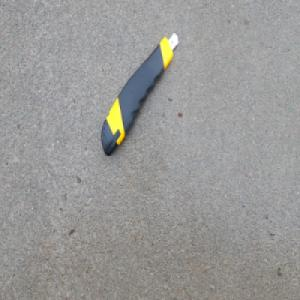Cutter: (101, 30, 179, 158)
